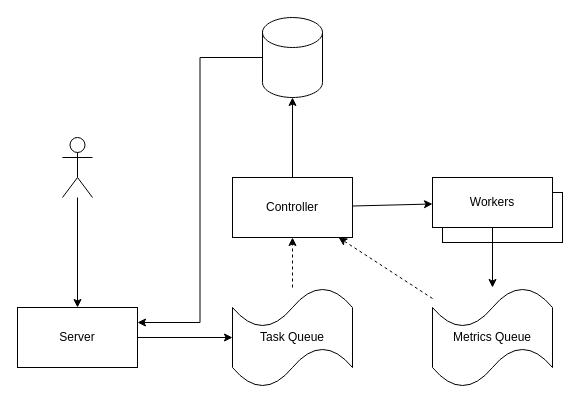
The diagram is 580 pixels wide and 405 high, and some of its shapes have lost their labels. The centre of each missing label's shape, as x and y in pixels:
Actor: [77,167]
DB: [292,57]
